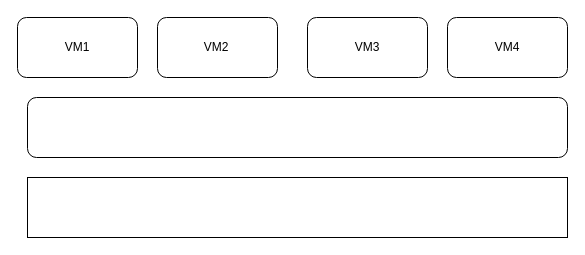
Image size: 585x255. Some labels were removed from this diagram. The box of each missing label's shape, as (x1, y1, x2, y2) in pixels:
Hardware: (26, 176, 568, 238)
Hypervisor: (26, 96, 568, 158)
